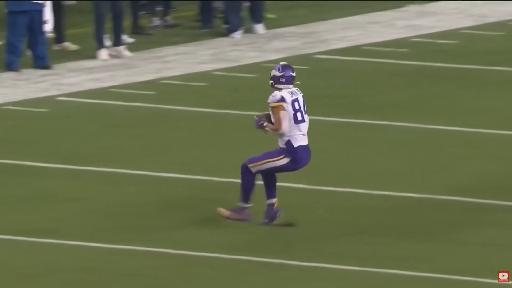Helmet: (270, 63, 295, 89)
Jersey: (268, 88, 309, 147)
Player: (218, 63, 310, 223)
